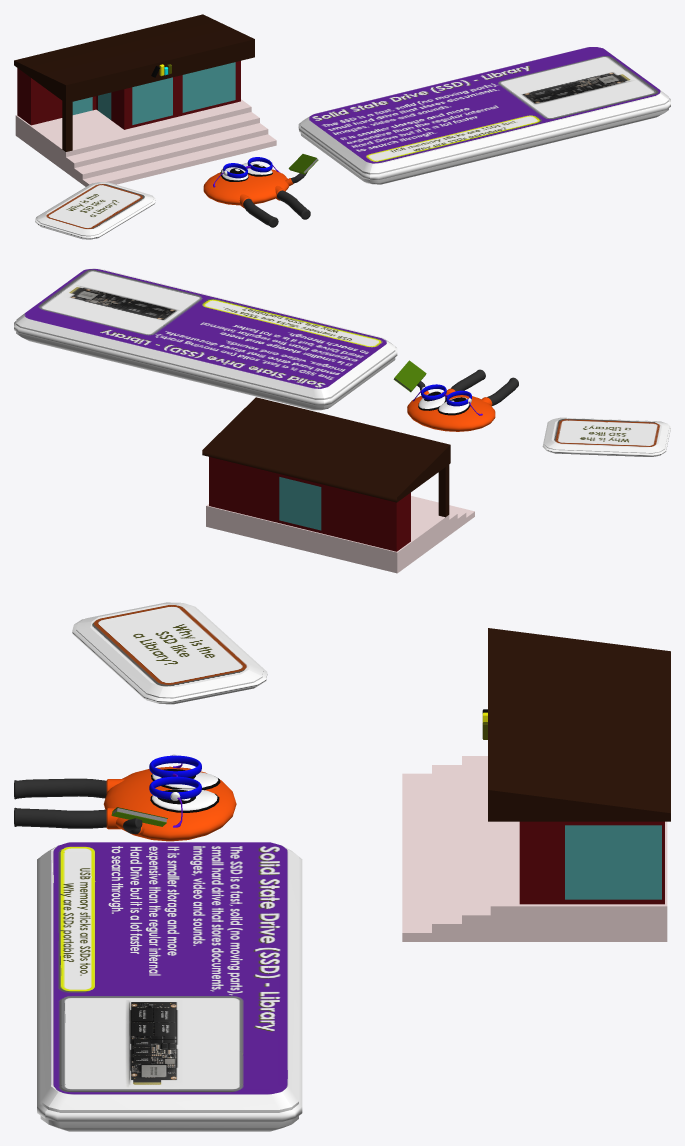
Rendered from combined_ssd.obj.
3 views of the same model, one above another, from view 1: azimuth 30°, elevation 25°; view 2: azimuth 150°, elevation 25°; view 3: azimuth 270°, elevation 25° (orthographic). The views are drawn at different scales.
Visible parts, largest first — view 1: mod_library, SSD1, char_3, SSD2; view 2: mod_library, SSD1, SSD2, char_3; view 3: SSD1, mod_library, SSD2, char_3.
Part boxes in pixels (box(x1,y1,x2,y2)): mod_library: box(14, 14, 276, 186); SSD1: box(298, 47, 670, 184); char_3: box(203, 154, 318, 227); SSD2: box(35, 182, 155, 239); mod_library: box(202, 397, 474, 573); SSD1: box(14, 268, 397, 410); SSD2: box(542, 417, 670, 456); char_3: box(393, 360, 518, 431); SSD1: box(37, 842, 302, 1131); mod_library: box(402, 628, 670, 941); SSD2: box(72, 602, 267, 704); char_3: box(14, 754, 236, 841).
Size of the model in its own units: 15.42 by 2.16 by 8.32.
19 materials, 2 textured.
